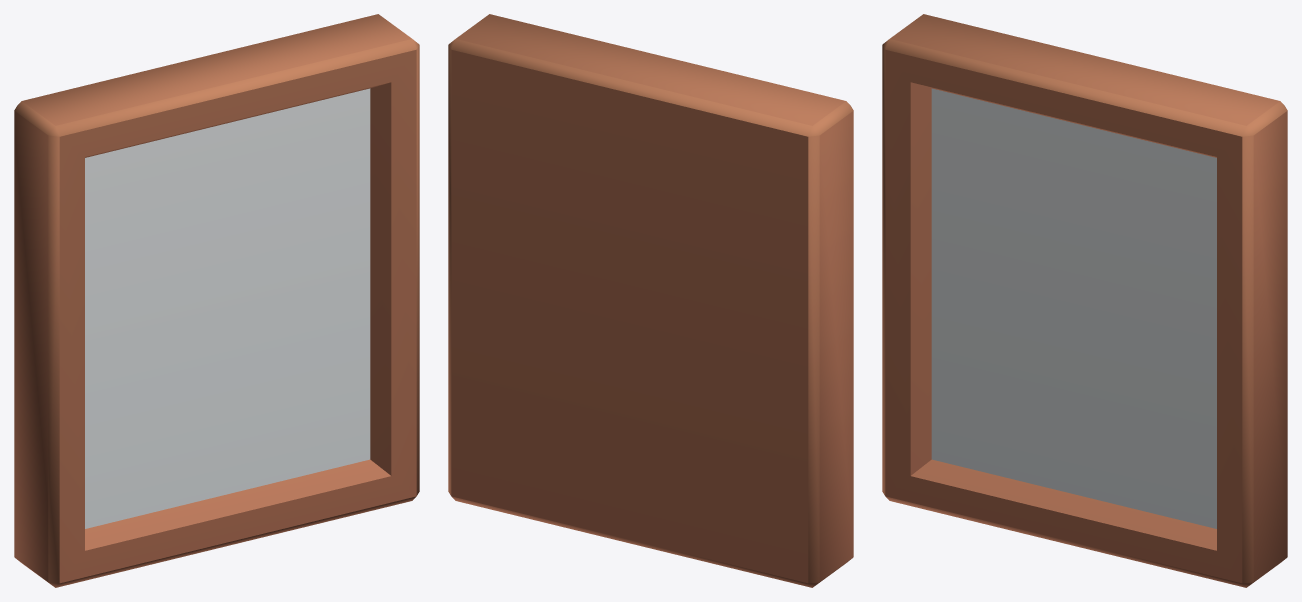
3 renders of one model, left to right at view 1: azimuth 30°, elevation 25°; view 2: azimuth 150°, elevation 25°; view 3: azimuth 330°, elevation 25°, orthographic.
Visible parts, largest first — view 1: pictureframe_large_A; view 2: pictureframe_large_A; view 3: pictureframe_large_A.
Part boxes in pixels (<box>): pictureframe_large_A: <box>14,14,419,587</box>; pictureframe_large_A: <box>448,14,853,587</box>; pictureframe_large_A: <box>882,14,1287,587</box>.
Size of the model in its own units: 1.01 by 1.2 by 0.2.
Materials: 1 (1 with a texture image).
